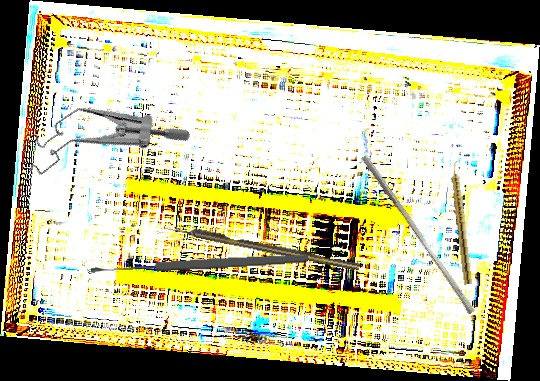Handpiece: (448, 160, 476, 285)
Hook Surgical: (164, 222, 361, 272)
Pusher: (354, 154, 482, 315)
Speculum: (13, 62, 193, 222)
Surgical Spoon: (90, 252, 309, 276)
